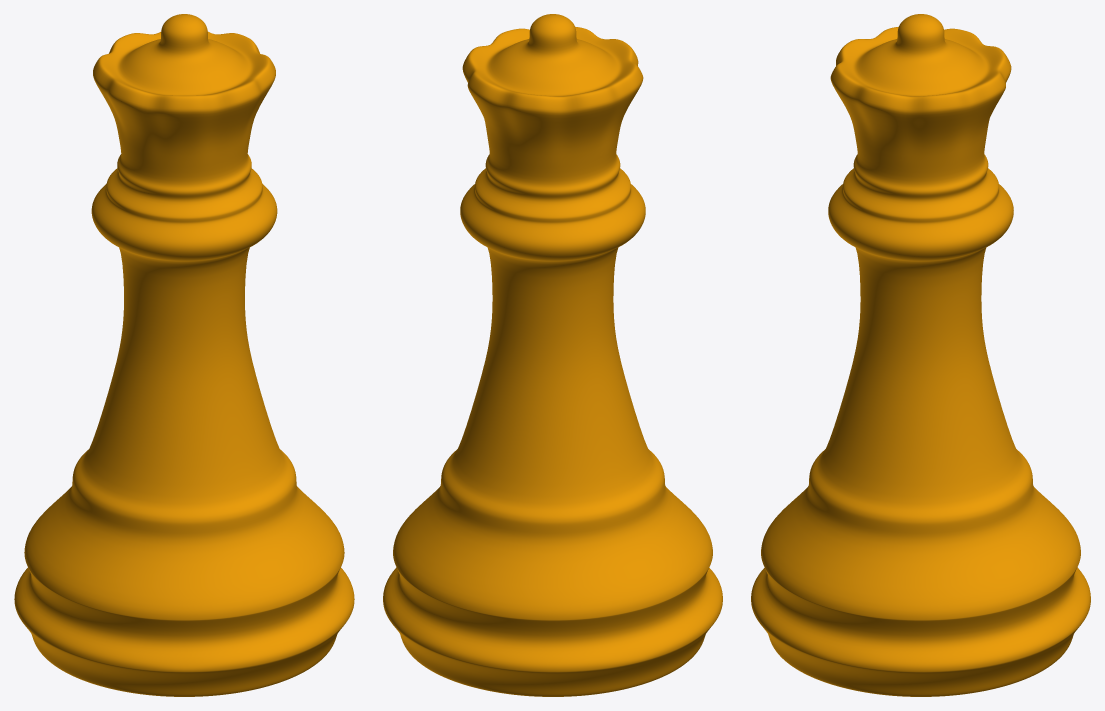
The model's file is queen2.glb.
3 renders of one model, left to right at view 1: azimuth 30°, elevation 25°; view 2: azimuth 150°, elevation 25°; view 3: azimuth 270°, elevation 25°, orthographic.
Parts seen in each view (by area): view 1: queen.001; view 2: queen.001; view 3: queen.001.
Part boxes in pixels (bbox=[...]): queen.001: bbox=[14, 14, 354, 696]; queen.001: bbox=[383, 14, 722, 696]; queen.001: bbox=[751, 14, 1090, 696].
Bounding box in the file's own units: 1.88 × 3.77 × 1.88.
